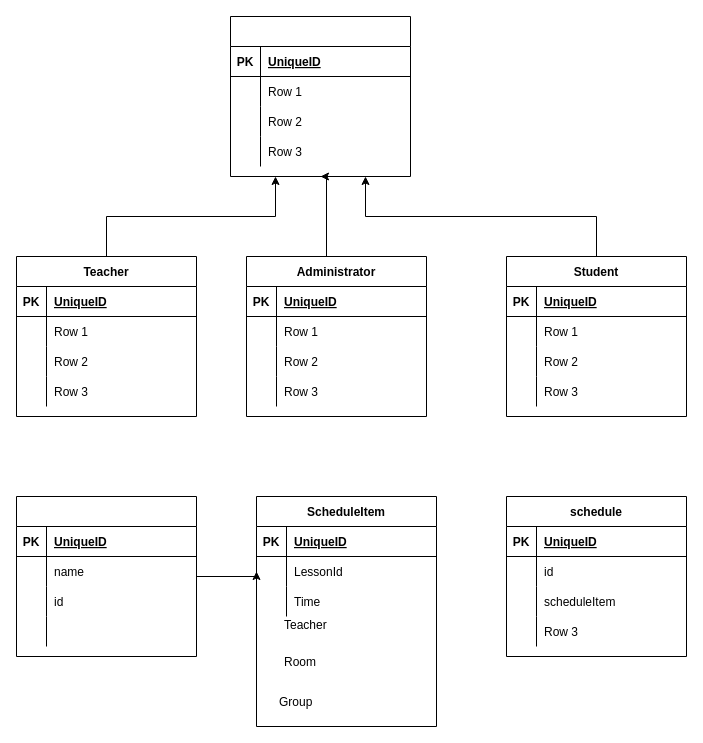
Image size: 703x743. Some labels were removed from this diagram. The shapes that lost their labels are listed below. From the top down, each one's box as (x1, y1, x2, y2) in pixels, then its label:
(230, 16, 410, 176): user
(16, 496, 196, 656): Lesson
